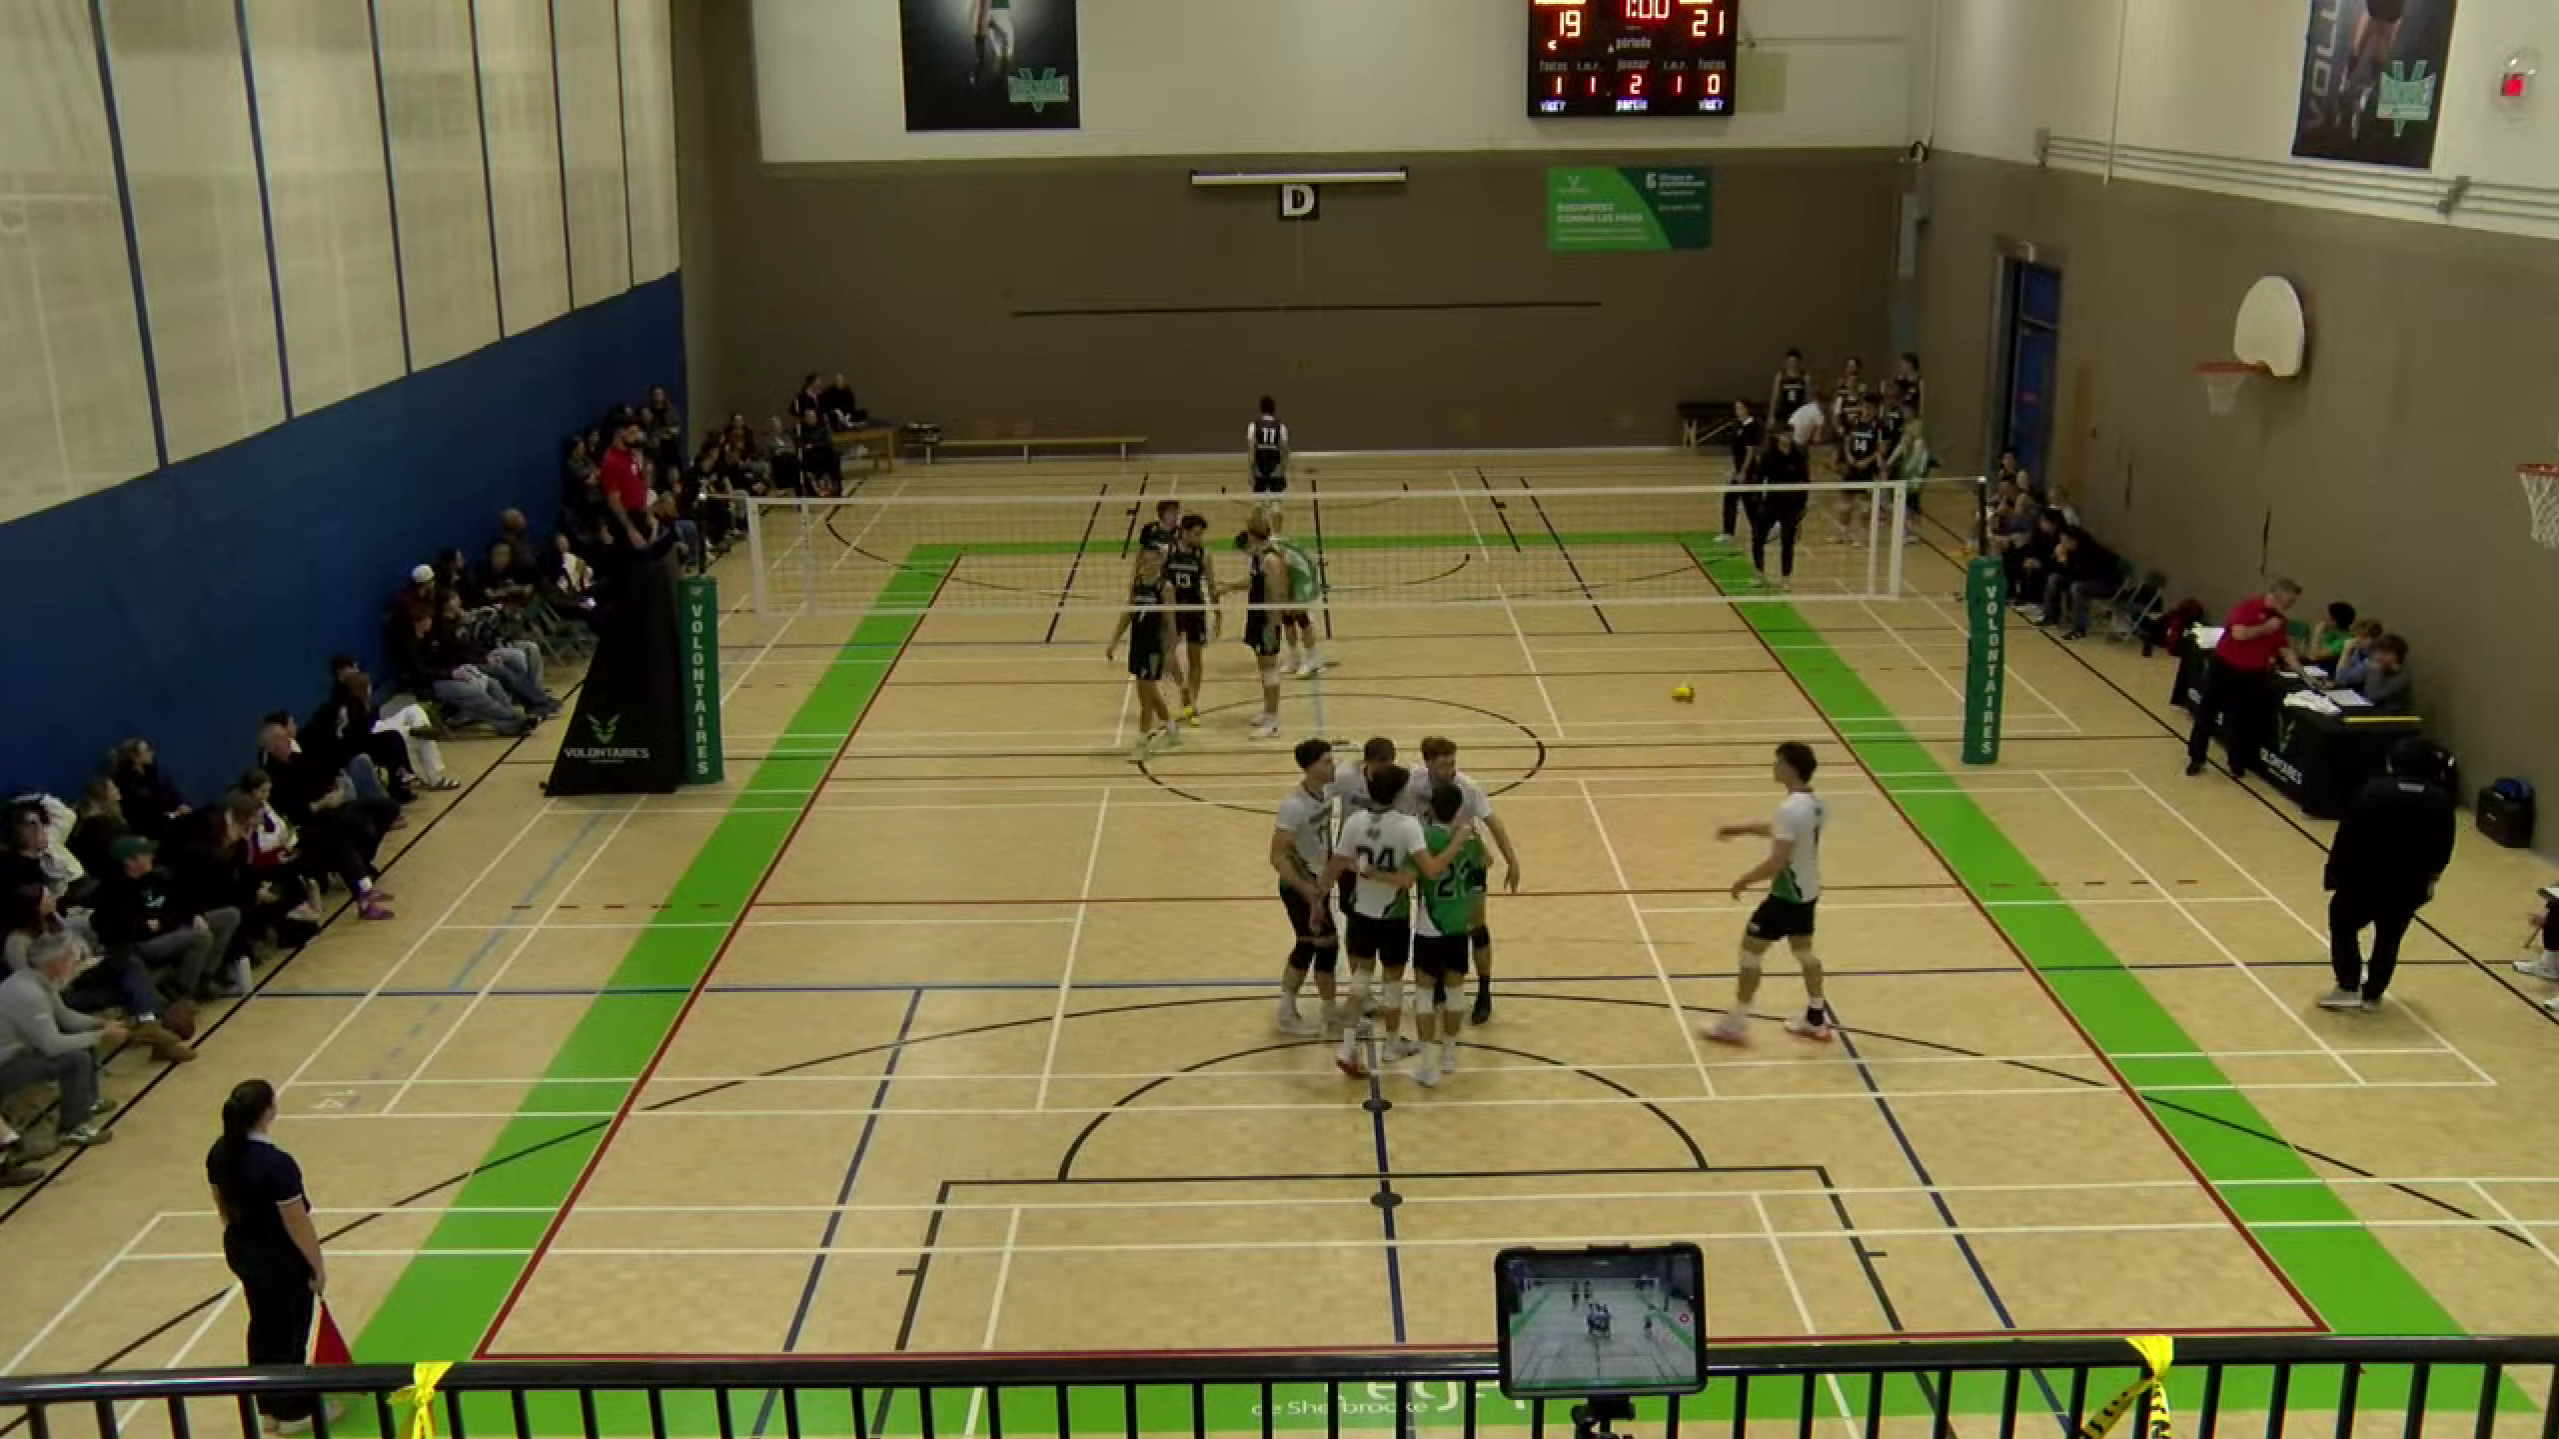Ball: (1668, 680, 1698, 708)
